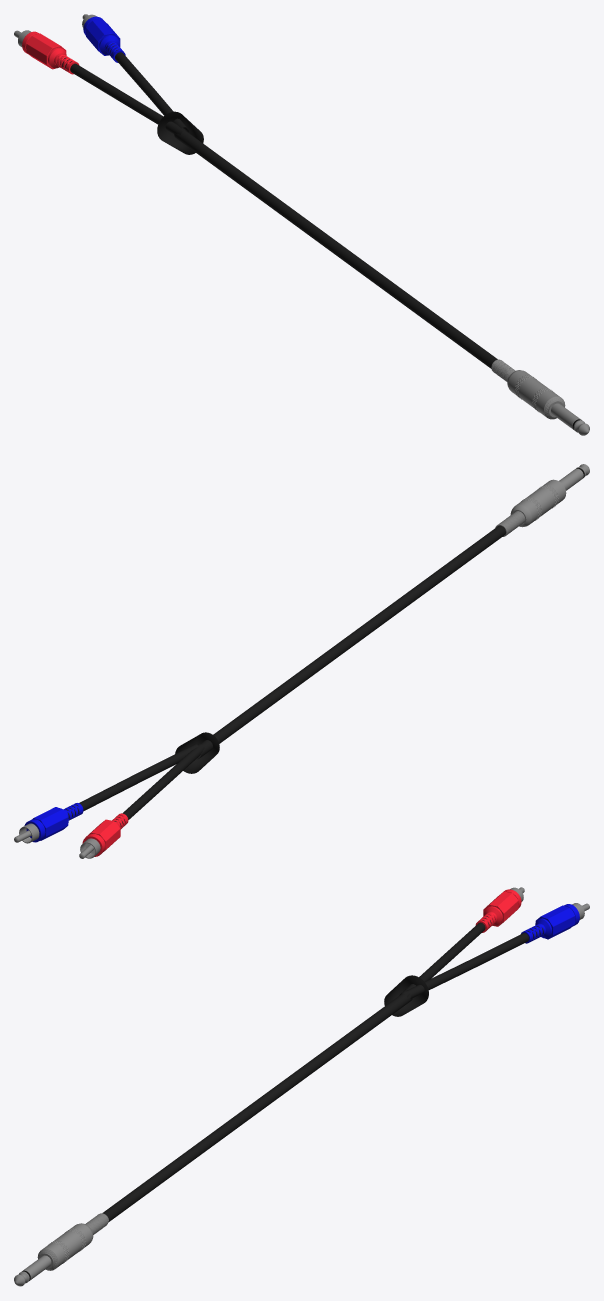
The model's file is cavo_doppio.fbx.
The picture shows the model from 3 angles, top to bottom: view 1: azimuth 30°, elevation 25°; view 2: azimuth 150°, elevation 25°; view 3: azimuth 330°, elevation 25°; orthographic projection. The views are drawn at different scales.
Parts seen in each view (by area): view 1: RCA_cable.001, RCA_Base, RCA_Base.001; view 2: RCA_cable.001, RCA_Base.001, RCA_Base; view 3: RCA_cable.001, RCA_Base.001, RCA_Base.
Boxes of the visible parts, x1,y1,x2,y2 form: RCA_cable.001: (60, 43, 589, 435); RCA_Base: (22, 31, 79, 74); RCA_Base.001: (83, 16, 125, 62); RCA_cable.001: (66, 464, 589, 826); RCA_Base.001: (24, 803, 83, 842); RCA_Base: (82, 813, 128, 856); RCA_cable.001: (14, 916, 543, 1286); RCA_Base.001: (521, 904, 579, 943); RCA_Base: (475, 889, 521, 932).
Size of the model in its own units: 4.71 by 1.63 by 54.15.
